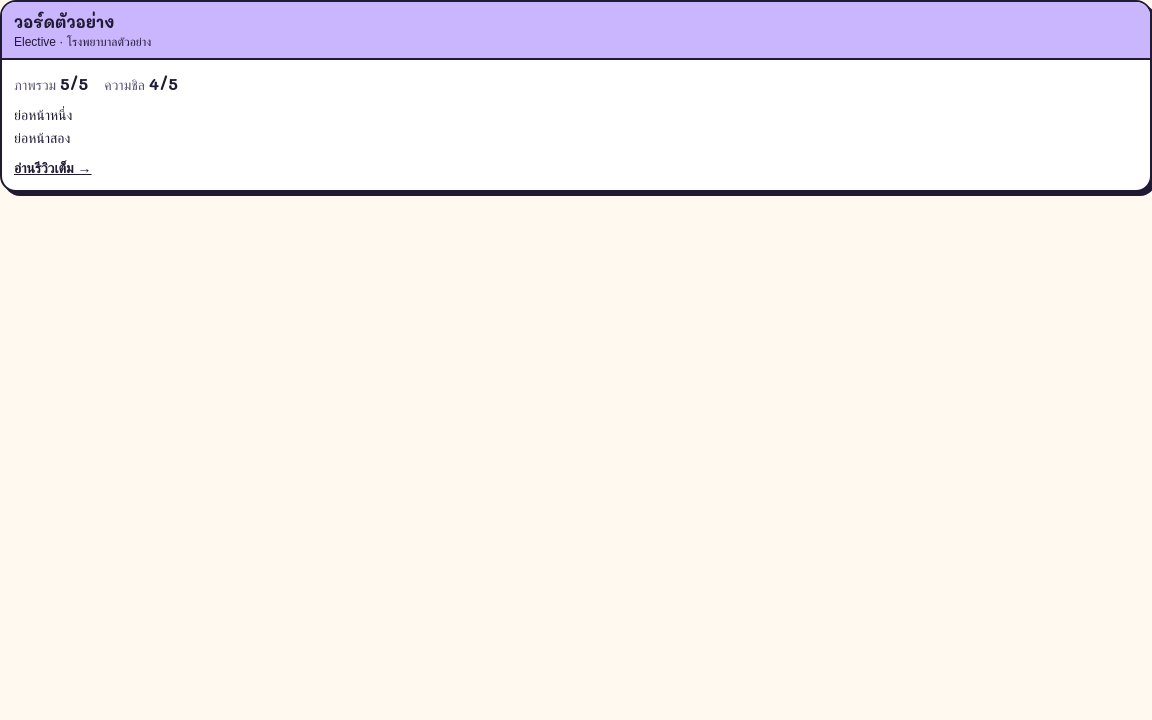
Test case: closing returns to the card
Click the button "อ่านรีวิวเต็ม →" at coordinates (53, 168), box [14,158,92,178]
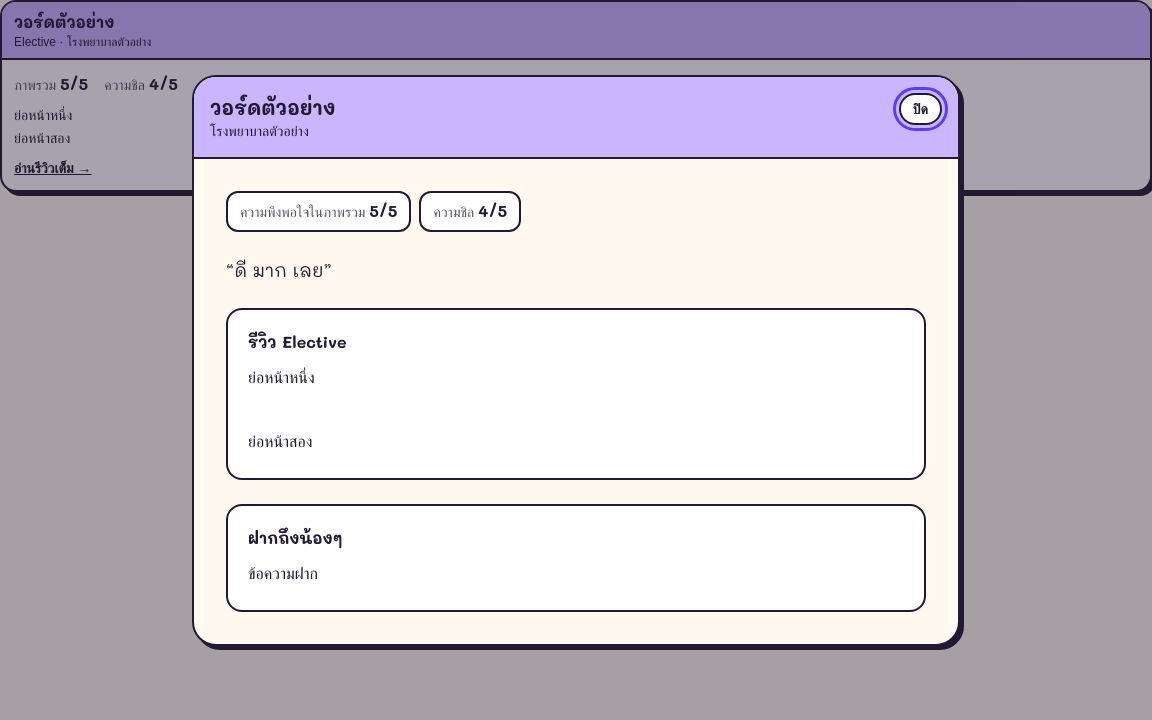
Click the button "ปิด" at coordinates (920, 108), box [899,92,942,124]
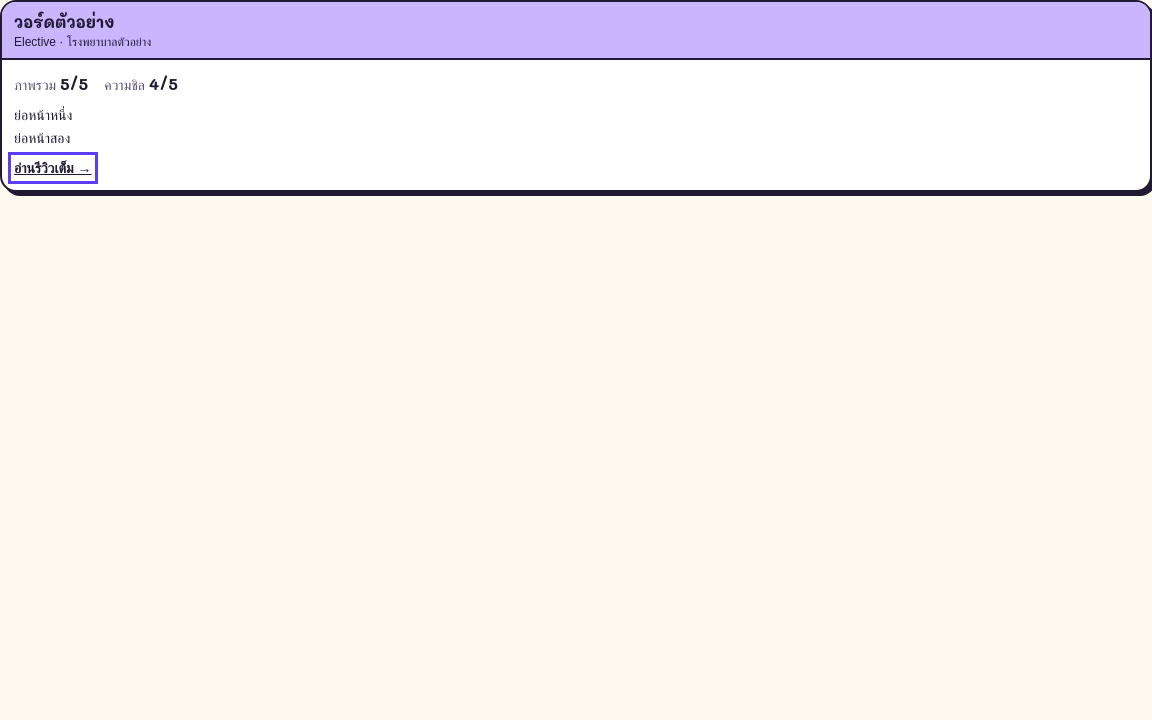
expect the button "อ่านรีวิวเต็ม →" is shown: met, box [14,158,92,178]
expect the dialog is gone: met
